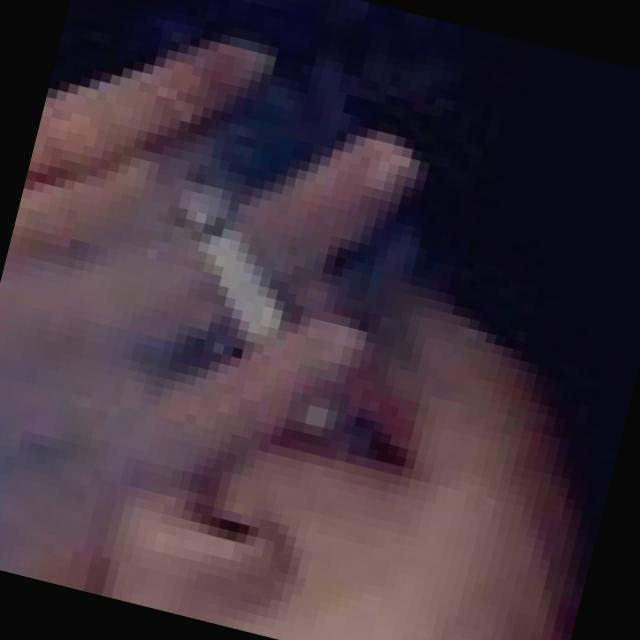smoke: (102, 132, 404, 474)
